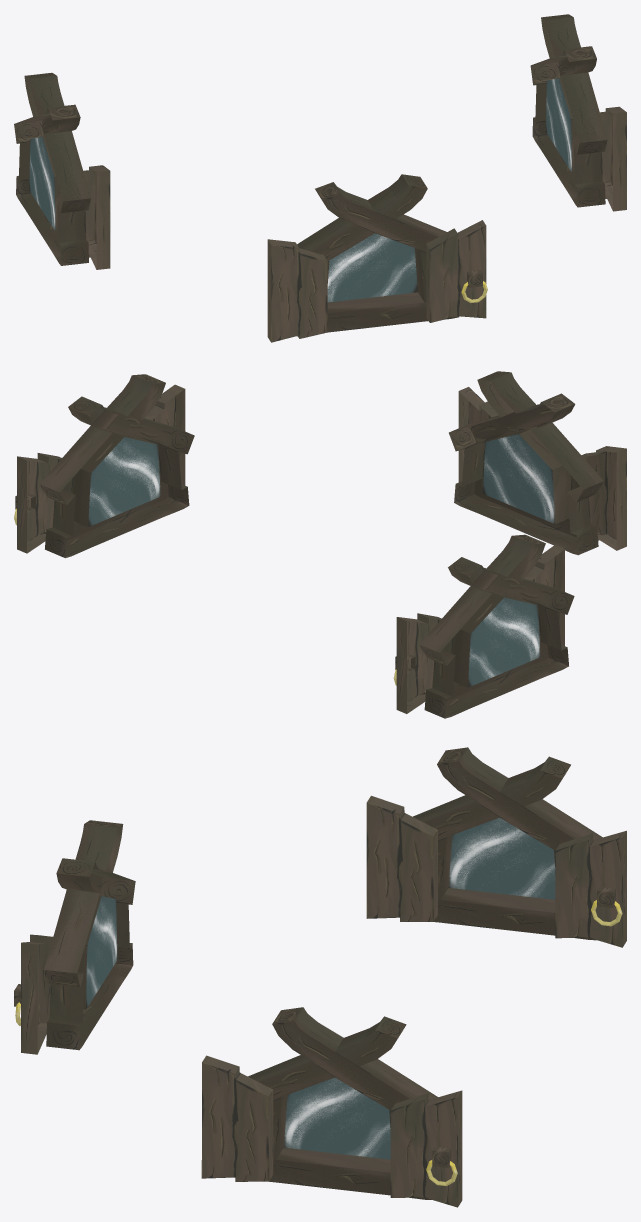
Rendered from polysurface253_txt_fenetre_new_0_lev1_lev2.glb.
3 renders of one model, top to bottom at view 1: azimuth 30°, elevation 25°; view 2: azimuth 150°, elevation 25°; view 3: azimuth 270°, elevation 25°, orthographic. The views are drawn at different scales.
Parts seen in each view (by area): view 1: polysurface253_txt_fenetre_new_0_lev1_lev2; view 2: polysurface253_txt_fenetre_new_0_lev1_lev2; view 3: polysurface253_txt_fenetre_new_0_lev1_lev2.
Boxes of the visible parts, bbox=[...] form: polysurface253_txt_fenetre_new_0_lev1_lev2: bbox=[14, 14, 626, 342]; polysurface253_txt_fenetre_new_0_lev1_lev2: bbox=[14, 371, 626, 718]; polysurface253_txt_fenetre_new_0_lev1_lev2: bbox=[14, 747, 626, 1207].
Bounding box in the file's own units: 7.1 × 1.74 × 5.91.
1 material, 1 textured.
